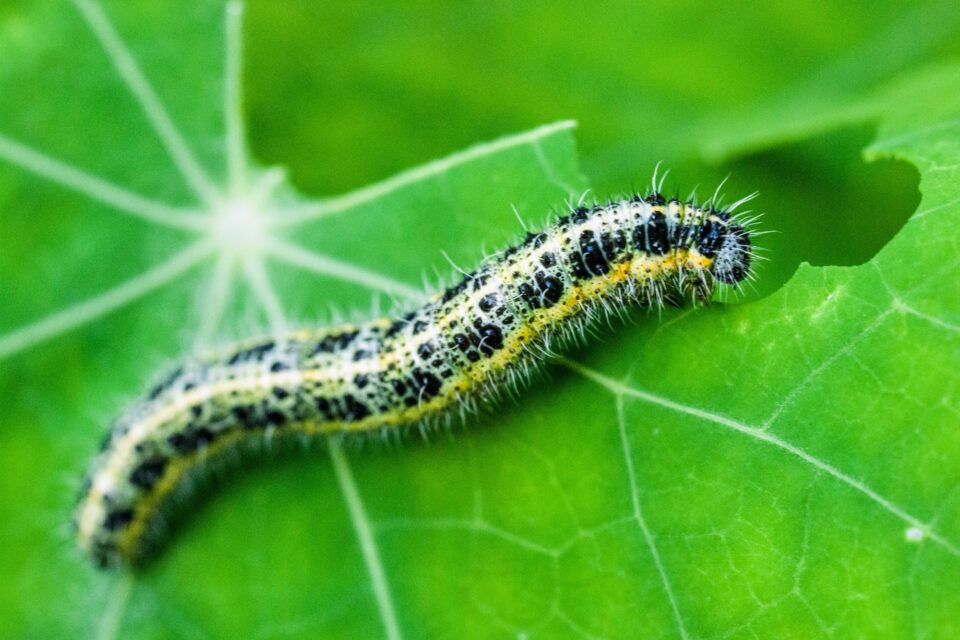Caterpillar: (71, 185, 752, 571)
